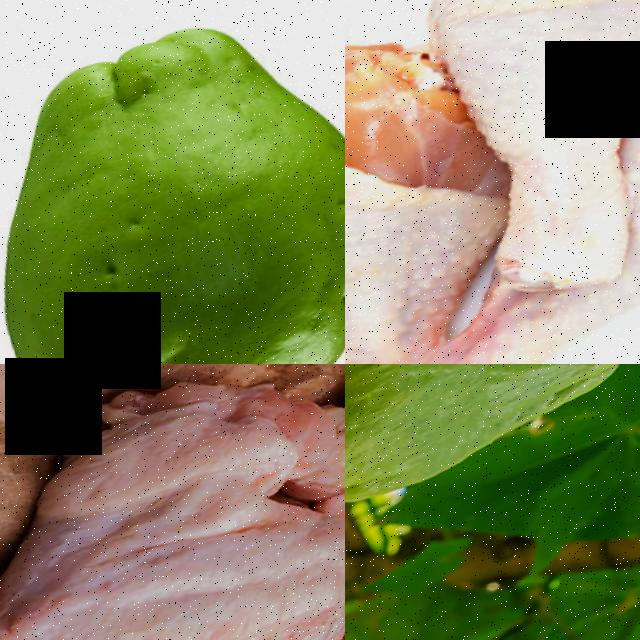chayote: (0, 0, 345, 364), (345, 364, 640, 561)
chicken thigh: (345, 9, 570, 364), (396, 0, 640, 309)
chicken wing: (0, 364, 345, 640)
